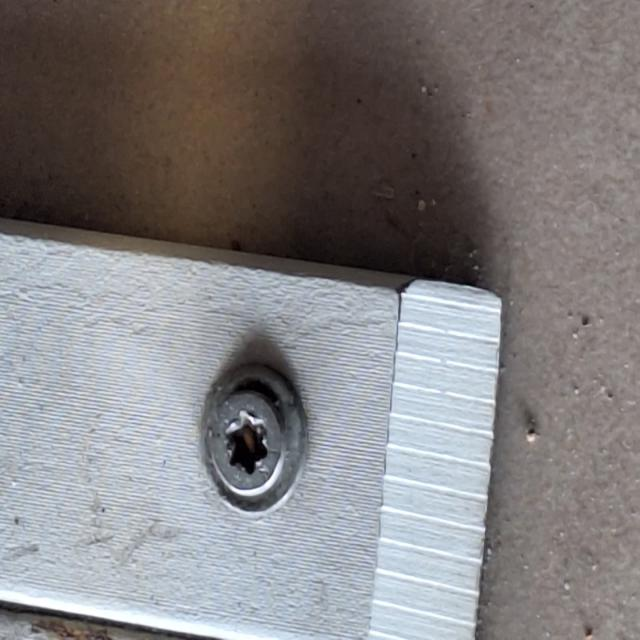Torx: (202, 387, 290, 497)
